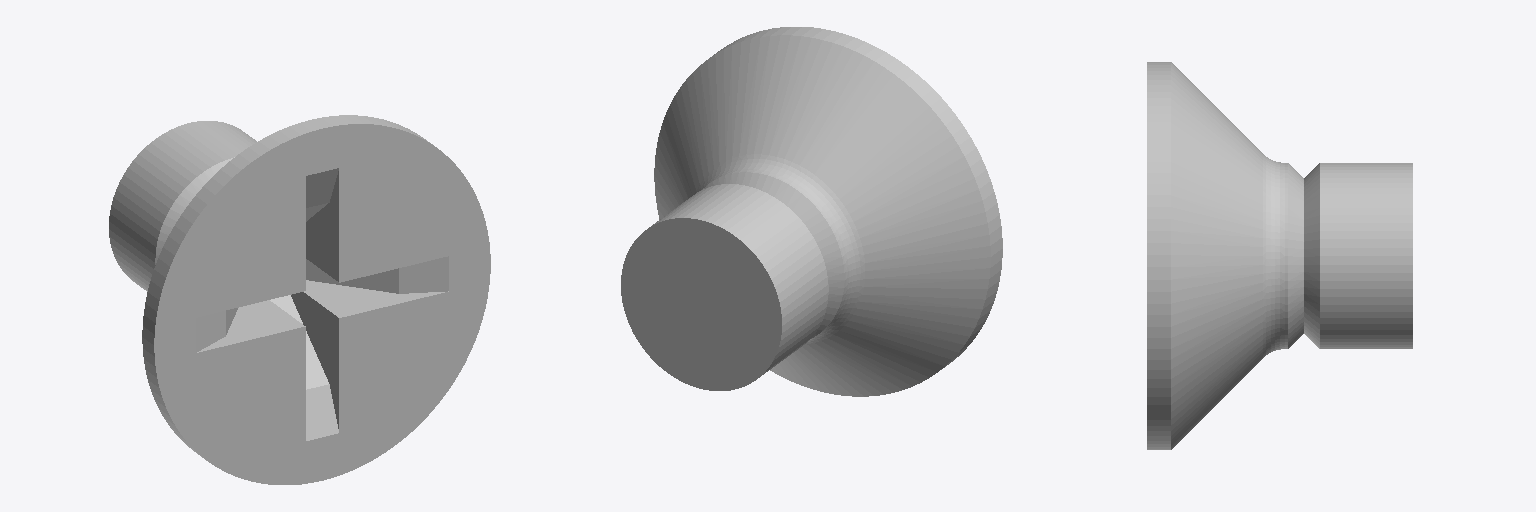
The model's file is case_ISO 7046-2 H - M3.5x5 - 8.8 - H1_1.obj.
The picture shows the model from 3 angles: view 1: azimuth 30°, elevation 25°; view 2: azimuth 150°, elevation 25°; view 3: azimuth 270°, elevation 25°; orthographic projection.
Visible parts, largest first — view 1: Solid1:5; view 2: Solid1:5; view 3: Solid1:5.
Part boxes in pixels (x1,y1,x2,y2): Solid1:5: (109, 115, 490, 484); Solid1:5: (621, 27, 1002, 396); Solid1:5: (1147, 62, 1412, 449).
Bounding box in the file's own units: 0.0073 × 0.0073 × 0.005.